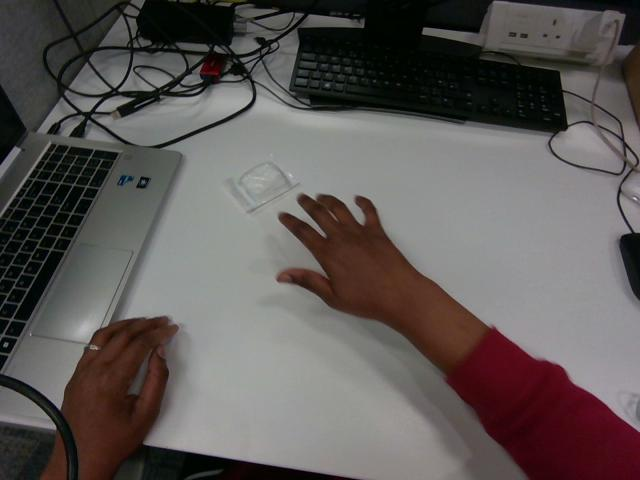gauze: (225, 162, 297, 212)
